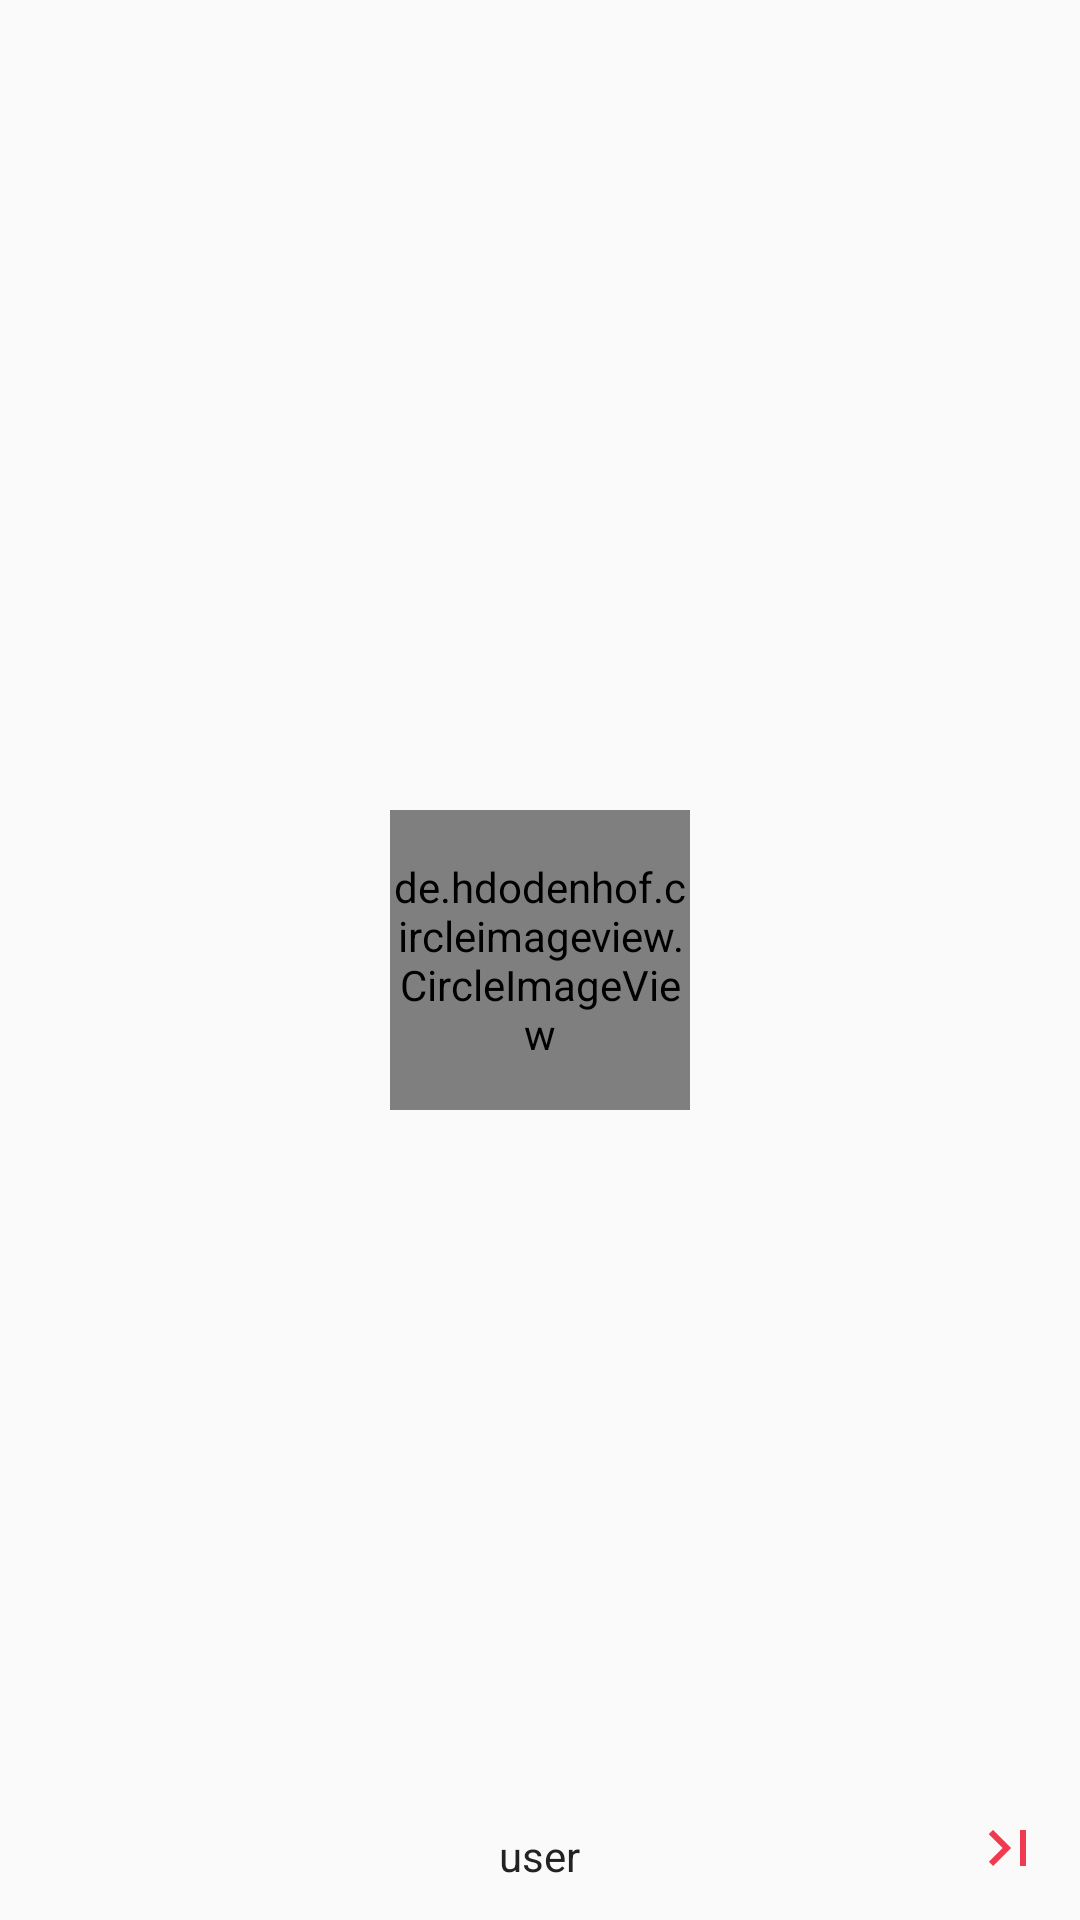

Point at icon controls on the screen. Image size 1080*1920, points as point (x, y).
last page: point (1007, 1848)
